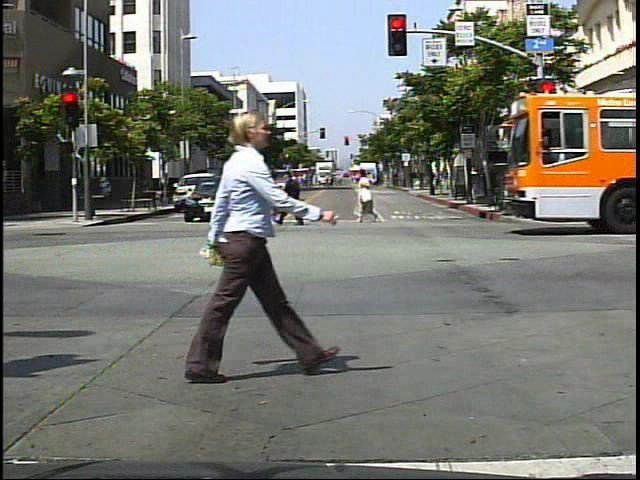person: (166, 91, 335, 390), (353, 166, 382, 227), (283, 165, 312, 209), (552, 160, 574, 211), (264, 168, 281, 192)
